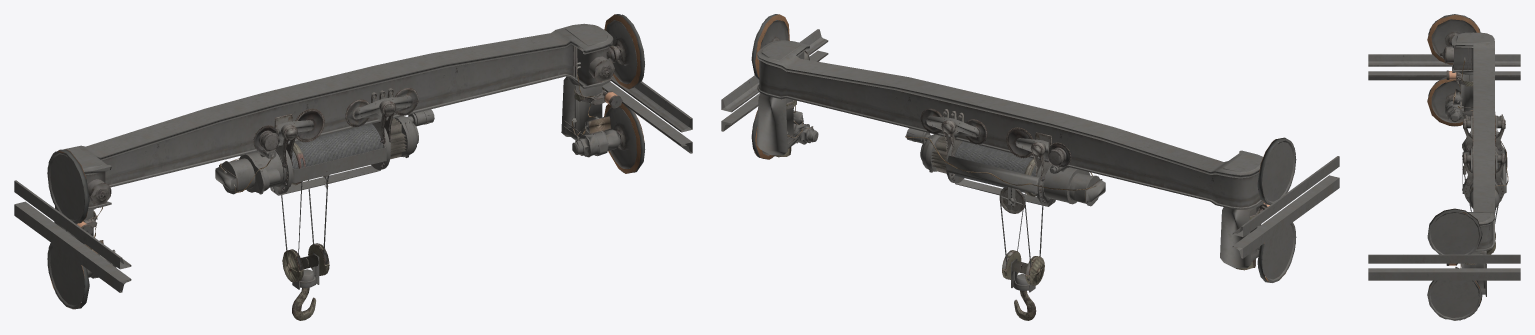
The model's file is overhead_crane_1k.glb.
3 views of the same model, side by side, from view 1: azimuth 30°, elevation 25°; view 2: azimuth 150°, elevation 25°; view 3: azimuth 270°, elevation 25° (orthographic). The views are drawn at different scales.
Parts seen in each view (by area): view 1: overhead_crane, overhead_crane_winch, overhead_crane_rails; view 2: overhead_crane, overhead_crane_winch, overhead_crane_rails; view 3: overhead_crane, overhead_crane_rails, overhead_crane_winch.
Boxes of the visible parts, x1,y1,x2,y2 form: overhead_crane: (47,14,645,309); overhead_crane_winch: (215,88,434,320); overhead_crane_rails: (14,76,692,292); overhead_crane: (751,14,1296,282); overhead_crane_winch: (905,108,1105,320); overhead_crane_rails: (721,29,1339,258); overhead_crane: (1427,14,1494,320); overhead_crane_rails: (1368,54,1520,280); overhead_crane_winch: (1462,112,1508,254).
Bounding box in the file's own units: 12.49 × 5.12 × 4.
Materials: 2 (2 with a texture image).
